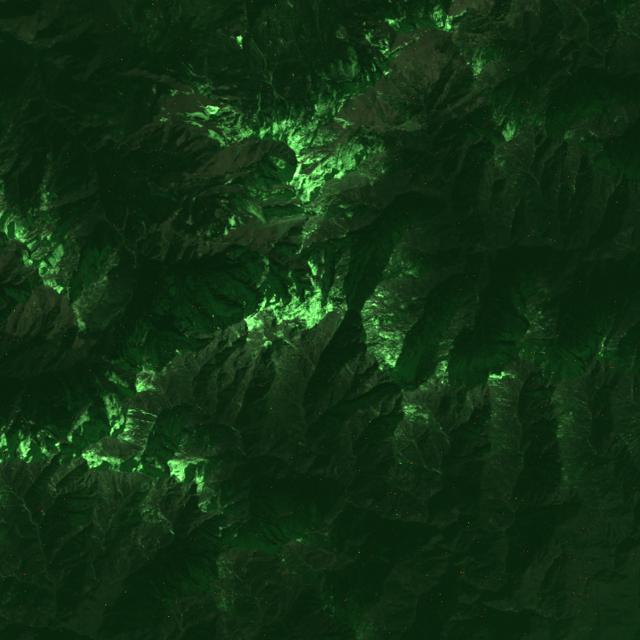landslides: (106, 398, 125, 437), (110, 373, 135, 397), (108, 385, 128, 413), (32, 124, 52, 151), (97, 469, 115, 497), (129, 400, 158, 417), (0, 540, 13, 569), (393, 327, 419, 341), (114, 470, 125, 497), (79, 503, 97, 517), (178, 355, 190, 373), (23, 98, 42, 109), (22, 119, 41, 130), (304, 353, 316, 370), (63, 384, 70, 410), (413, 292, 435, 300), (87, 501, 100, 514), (127, 421, 155, 427), (165, 373, 173, 394), (93, 533, 104, 547), (138, 392, 147, 408), (133, 473, 143, 486), (179, 384, 193, 393), (126, 473, 133, 490), (427, 314, 438, 324), (136, 316, 142, 333), (179, 447, 189, 457), (46, 489, 56, 499)
